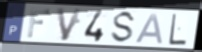4: (83, 9, 106, 43)
A: (134, 12, 165, 45)
F: (26, 7, 52, 39)
L: (168, 13, 188, 46)
S: (109, 10, 138, 45)
V: (55, 7, 84, 42)
